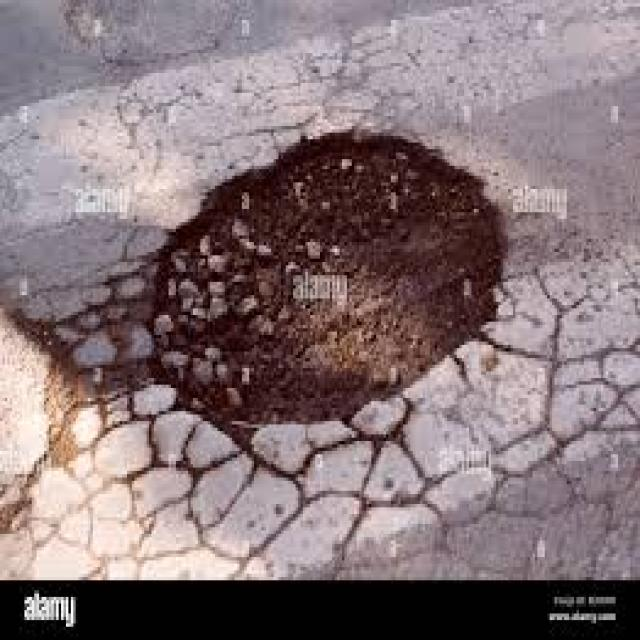Pothole: (105, 129, 508, 451)
